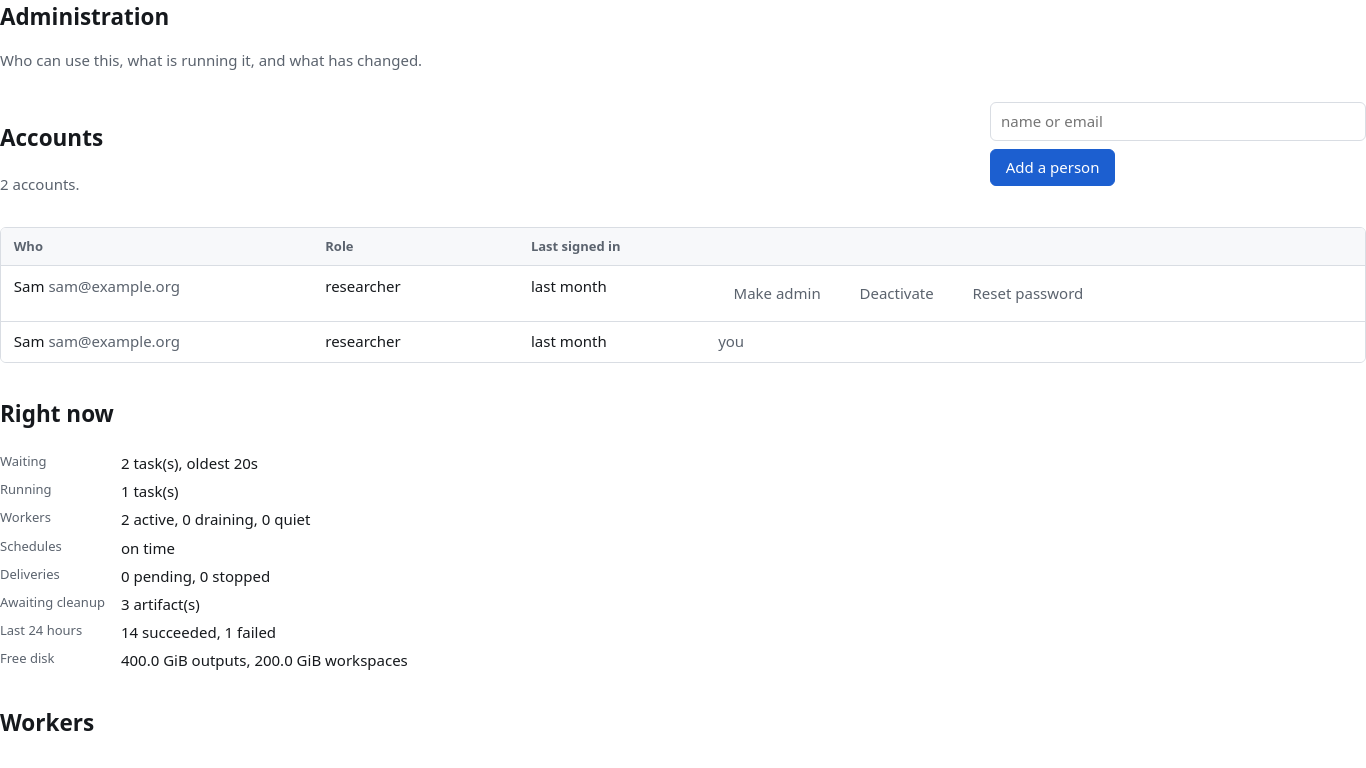
Test: administering a deployment › shows a one-time password once, and says it cannot be fetched again
Step 1. Click the button "Add a person" → (1053, 168), box [990,149,1115,186]
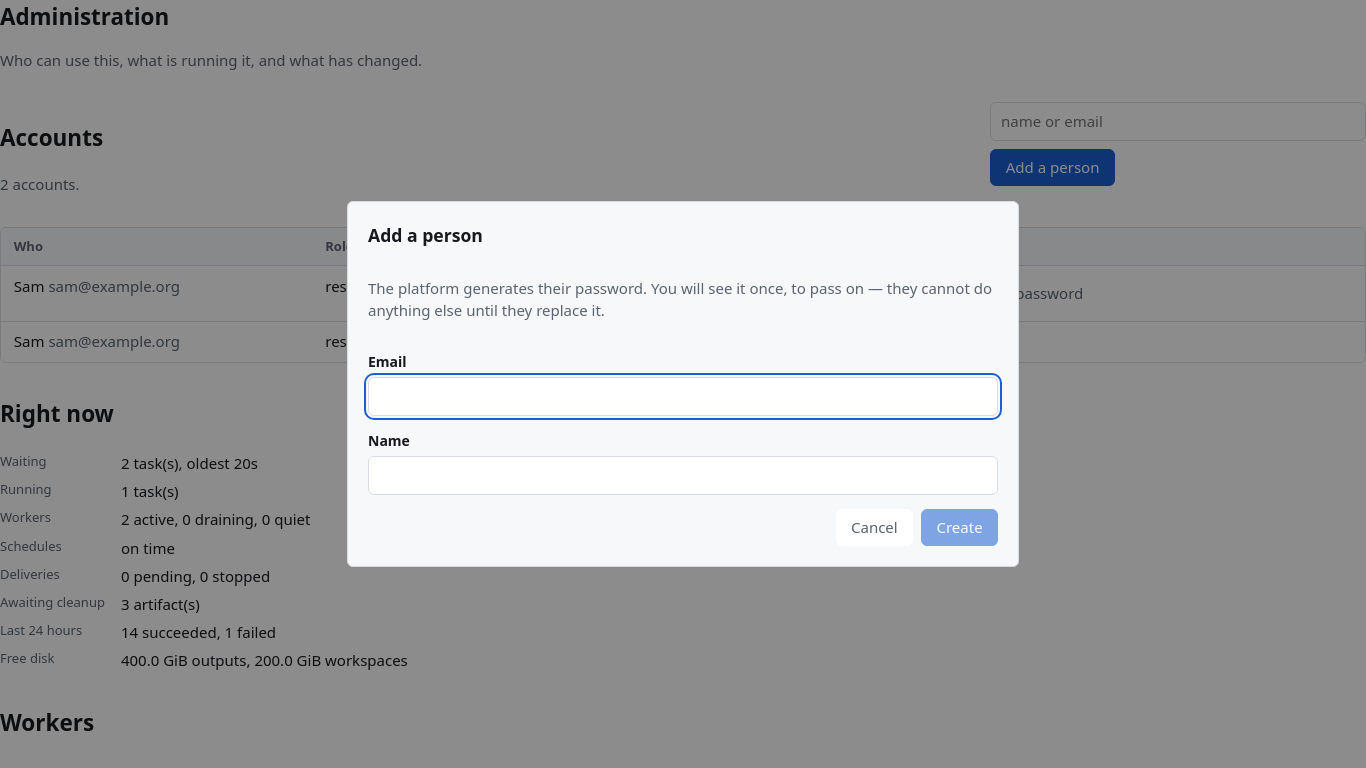
Step 2. Type "new@example.org" into the field labelled "Email" → (683, 397), box [368,377,998,416]
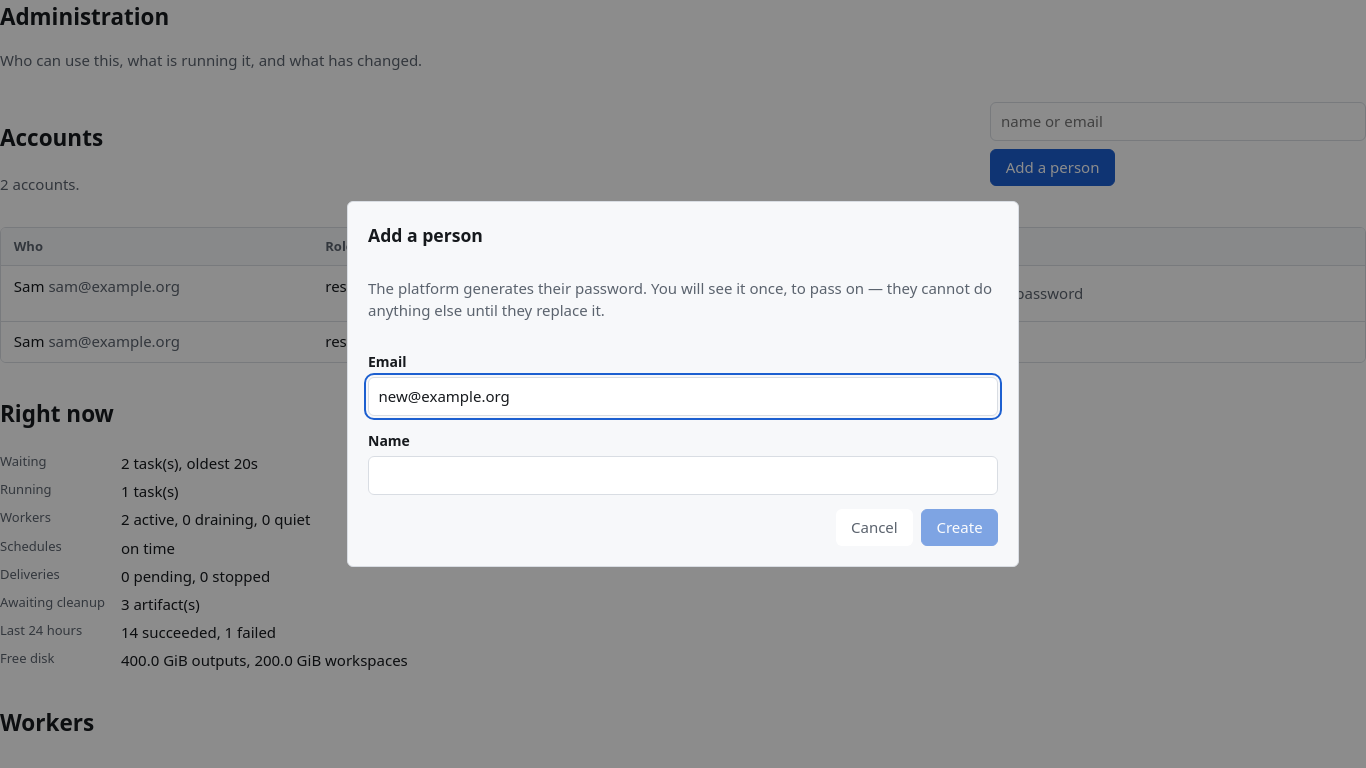
Step 3. Type "A New Person" into the field labelled "Name" → (683, 476), box [368,456,998,495]
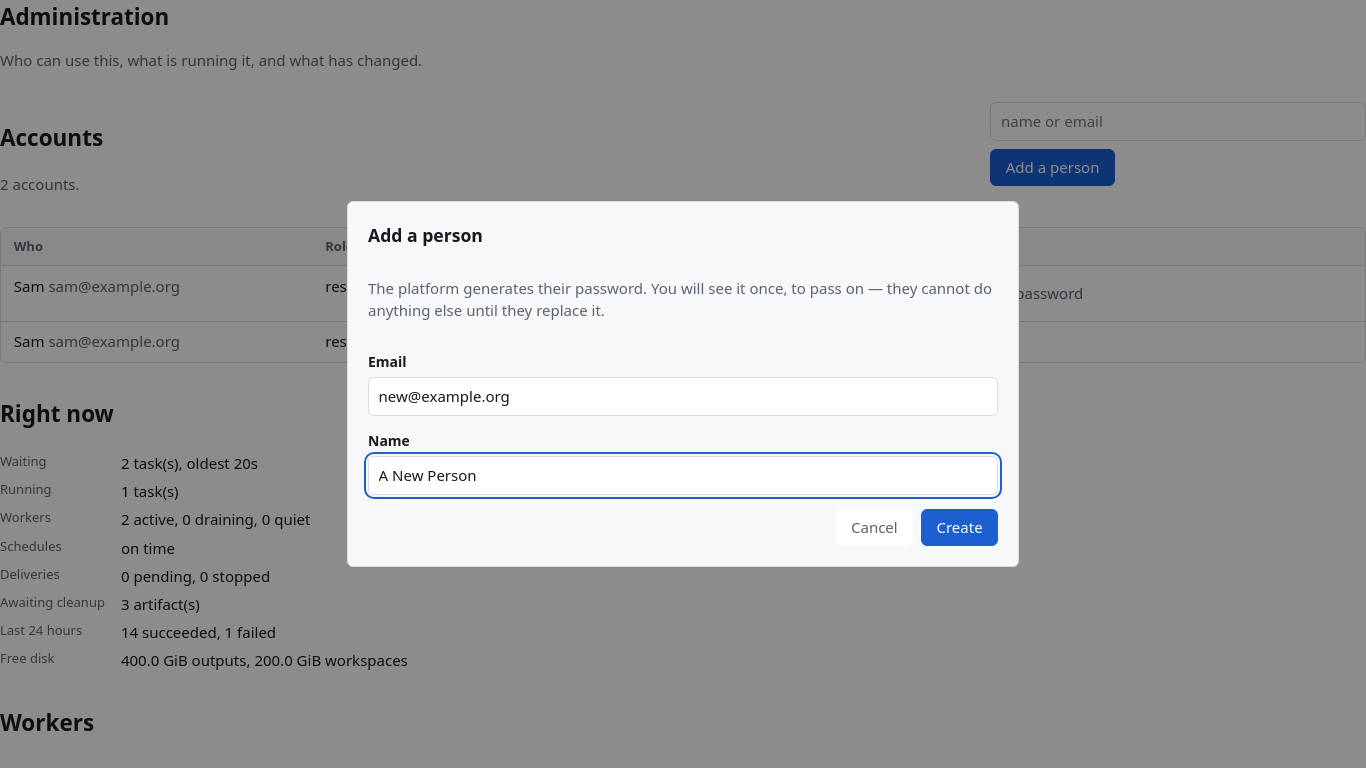
Step 4. Click the button "Create" → (960, 527), box [921,509,998,546]
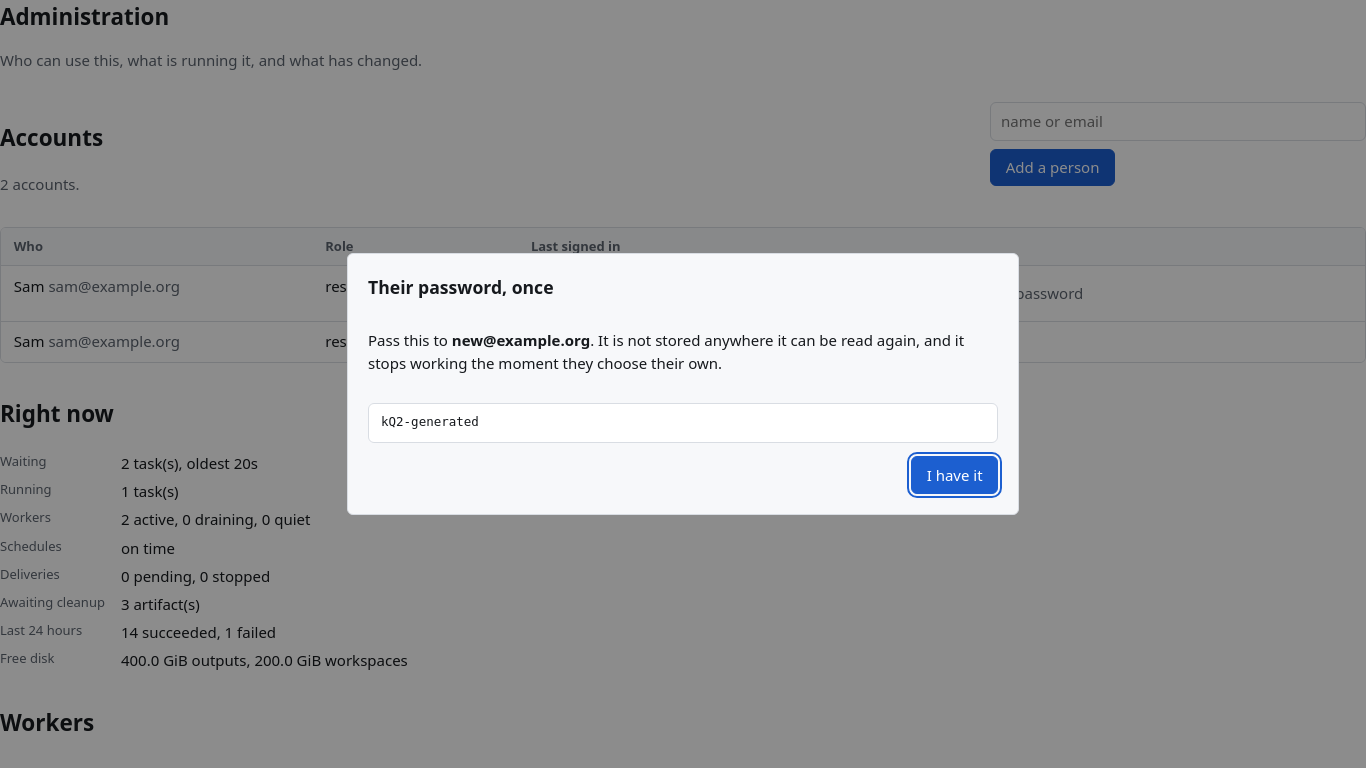
Now the text named "One-time password" reads "kQ2-generated", box [381,414,479,430]
Now the text "not stored anywhere it can be read again" is shown, box [368,330,964,373]
